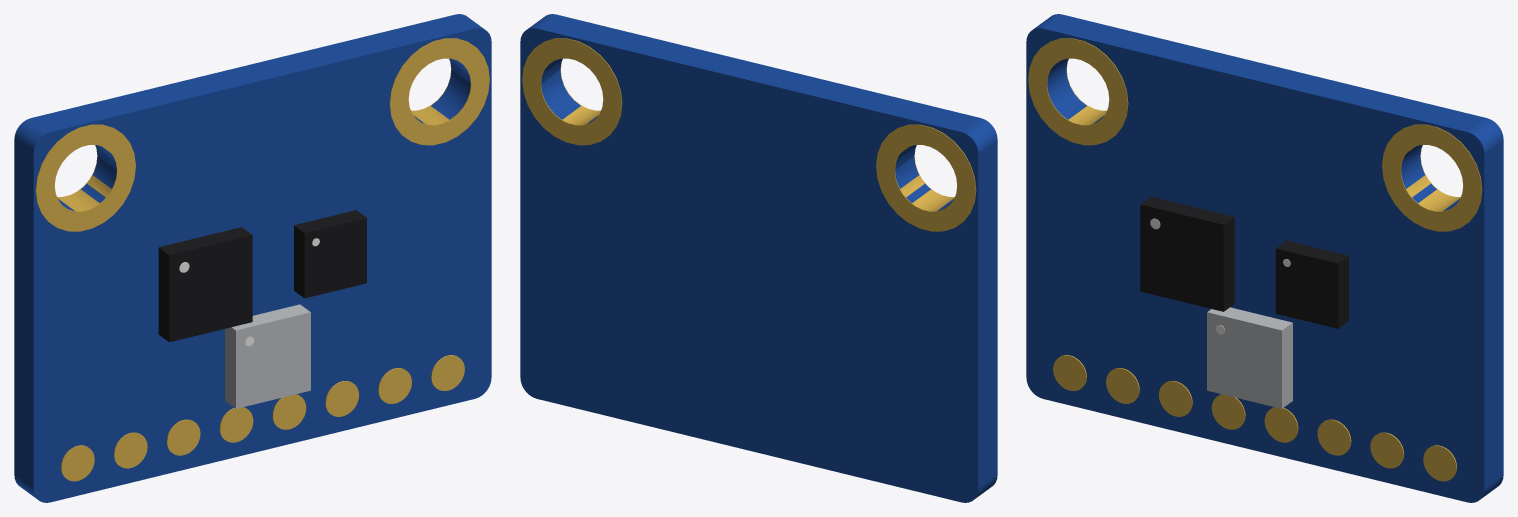
The model's file is gy87-mpu6050-bb.glb.
The picture shows the model from 3 angles, left to right: view 1: azimuth 30°, elevation 25°; view 2: azimuth 150°, elevation 25°; view 3: azimuth 330°, elevation 25°; orthographic projection.
Parts seen in each view (by area): view 1: board, chip_1, chip_3, hole_1, hole_2, chip_2, pads_4_3, pads_4_2, pads_4_6, pads_4_7, pads_4_1, pads_4_8 (+2 smaller); view 2: board, hole_1, hole_2; view 3: board, chip_1, chip_3, hole_2, hole_1, chip_2, pads_4_6, pads_4_7, pads_4_3, pads_4_2, pads_4_1, pads_4_8 (+2 smaller).
Boxes of the visible parts, x1,y1,x2,y2 form: board: (14,14,491,502); chip_1: (158,227,252,342); chip_3: (225,304,310,408); hole_1: (35,124,135,231); hole_2: (389,38,489,145); chip_2: (294,210,366,298); pads_4_3: (166,419,200,455); pads_4_2: (113,432,147,468); pads_4_6: (325,381,358,416); pads_4_7: (378,368,411,403); pads_4_1: (61,445,94,481); pads_4_8: (431,355,464,390); board: (520,14,997,502); hole_1: (876,124,976,231); hole_2: (522,38,622,145); board: (1026,14,1503,502); chip_1: (1140,196,1234,311); chip_3: (1207,307,1292,408); hole_2: (1382,124,1482,231); hole_1: (1028,38,1128,145); chip_2: (1275,240,1348,328); pads_4_6: (1317,419,1351,455); pads_4_7: (1370,432,1404,468); pads_4_3: (1159,381,1192,416); pads_4_2: (1106,368,1139,403); pads_4_1: (1053,355,1086,390); pads_4_8: (1423,445,1456,481).
Size of the model in its own units: 22 by 17 by 2.55.
